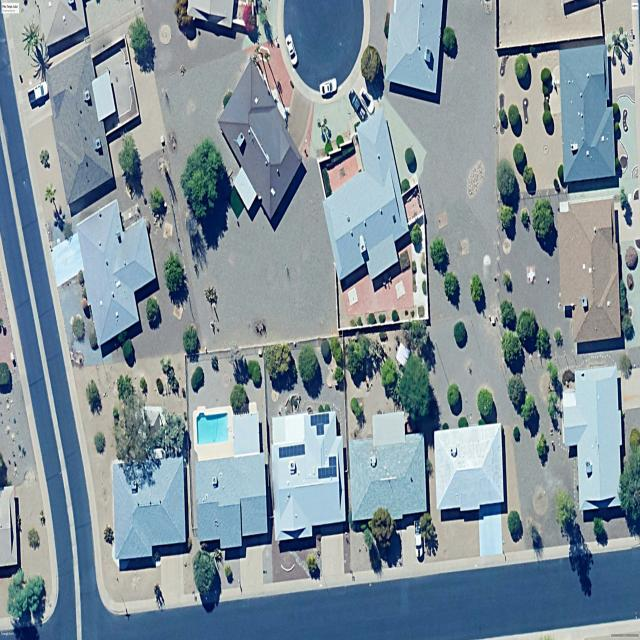Home: (46, 37, 139, 214), (323, 109, 408, 280), (218, 64, 301, 220), (77, 200, 156, 348), (271, 411, 345, 541), (558, 199, 621, 343), (563, 365, 622, 511), (349, 411, 427, 521), (559, 43, 616, 183), (112, 457, 186, 562), (195, 453, 268, 549), (434, 423, 504, 511), (386, 0, 442, 92), (36, 0, 88, 56), (0, 486, 18, 567), (187, 0, 235, 29)
